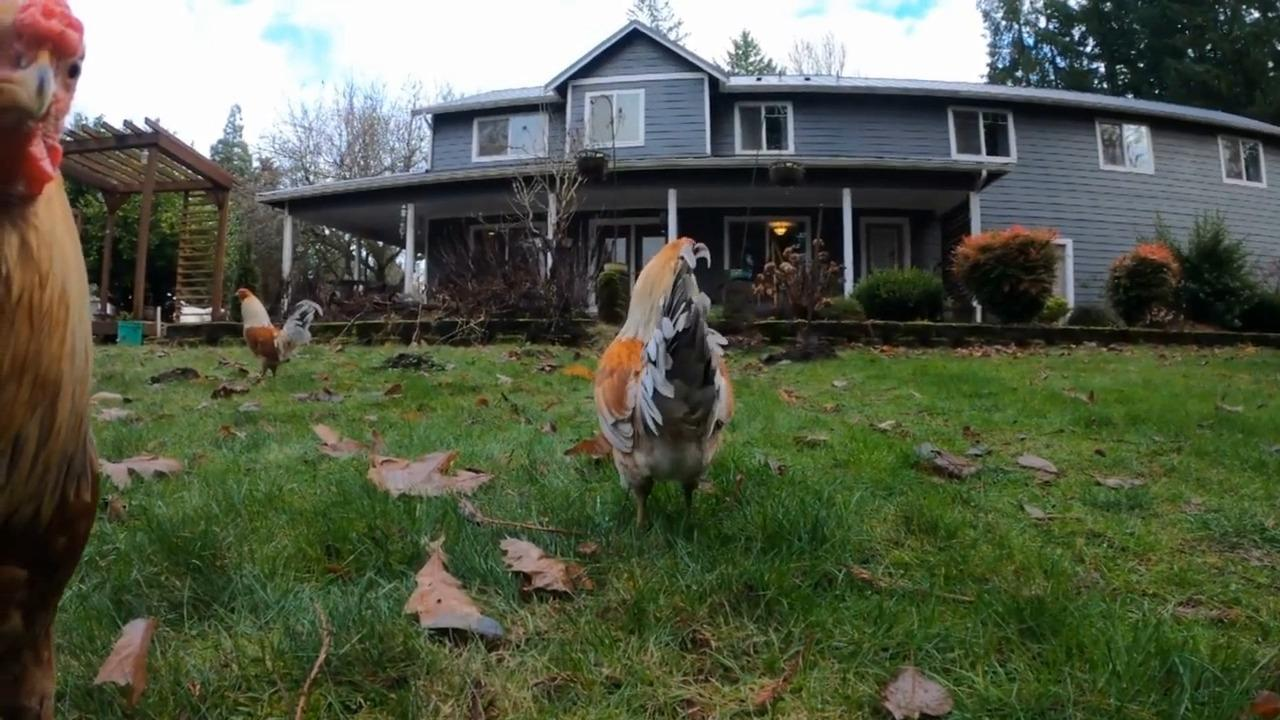Normal: (586, 208, 744, 554)
